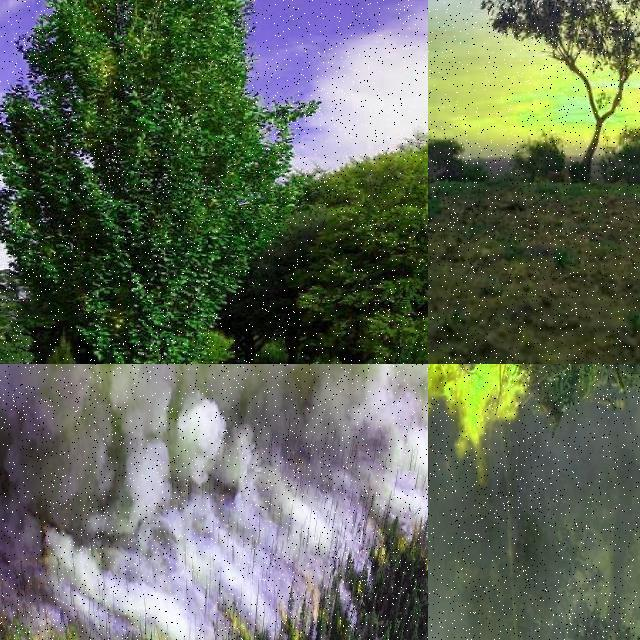tree: (0, 0, 308, 364), (220, 120, 428, 364), (483, 0, 640, 187), (428, 387, 514, 640), (0, 226, 56, 364), (0, 232, 54, 364), (510, 126, 566, 180), (288, 583, 296, 613)
